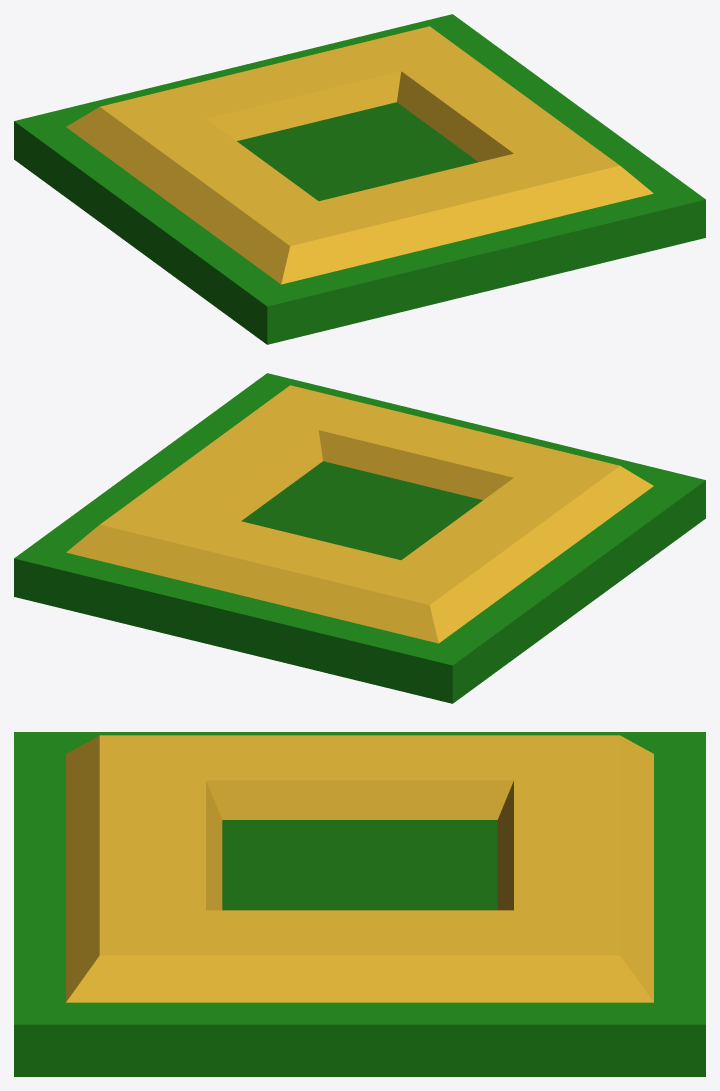
The model's file is processor.fbx.
3 renders of one model, top to bottom at view 1: azimuth 30°, elevation 25°; view 2: azimuth 150°, elevation 25°; view 3: azimuth 270°, elevation 25°, orthographic. The views are drawn at different scales.
Parts seen in each view (by area): view 1: Processor; view 2: Processor; view 3: Processor.
Part boxes in pixels (bbox=[...]): Processor: bbox=[14, 14, 705, 344]; Processor: bbox=[14, 373, 705, 703]; Processor: bbox=[14, 732, 705, 1076].
Size of the model in its own units: 53.98 by 53.98 by 7.35.
